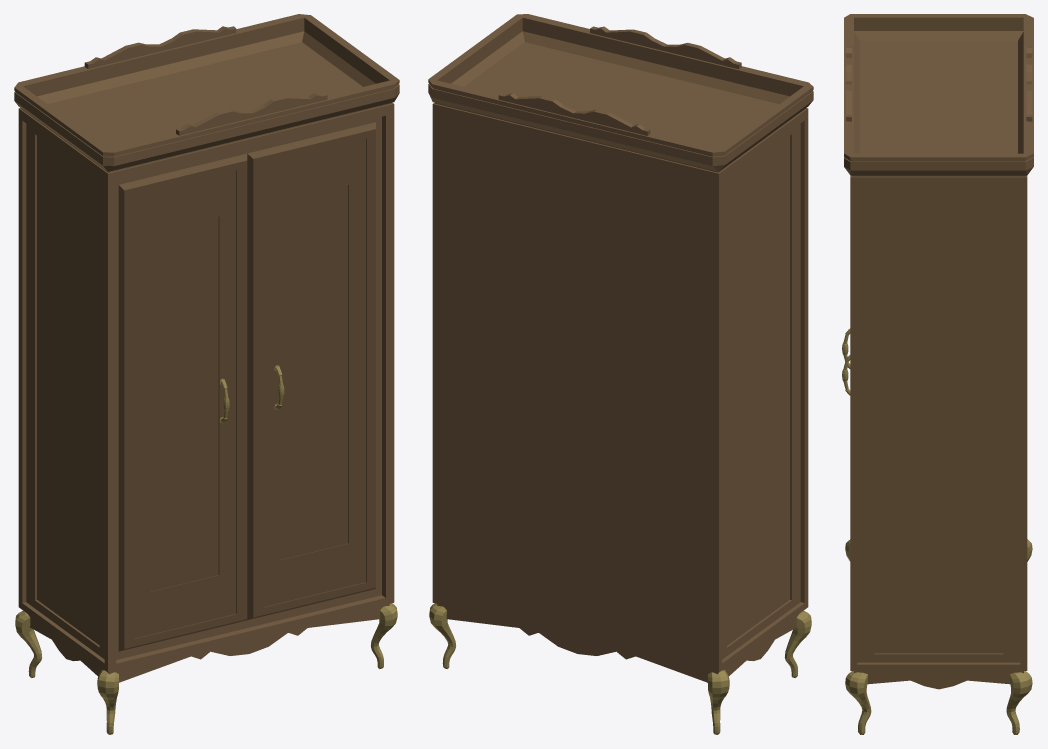
The model's file is quaternius_cc0-closet-823.glb.
The picture shows the model from 3 angles, left to right: view 1: azimuth 30°, elevation 25°; view 2: azimuth 150°, elevation 25°; view 3: azimuth 270°, elevation 25°; orthographic projection.
Visible parts, largest first — view 1: Closet, Closet_LeftDoor, Closet_RightDoor; view 2: Closet; view 3: Closet.
Boxes of the visible parts, x1,y1,x2,y2 form: Closet: (14, 14, 399, 734); Closet_LeftDoor: (118, 153, 247, 651); Closet_RightDoor: (247, 122, 375, 620); Closet: (428, 14, 813, 734); Closet: (844, 14, 1033, 734).
Size of the model in its own units: 1.55 by 2.98 by 0.87.
